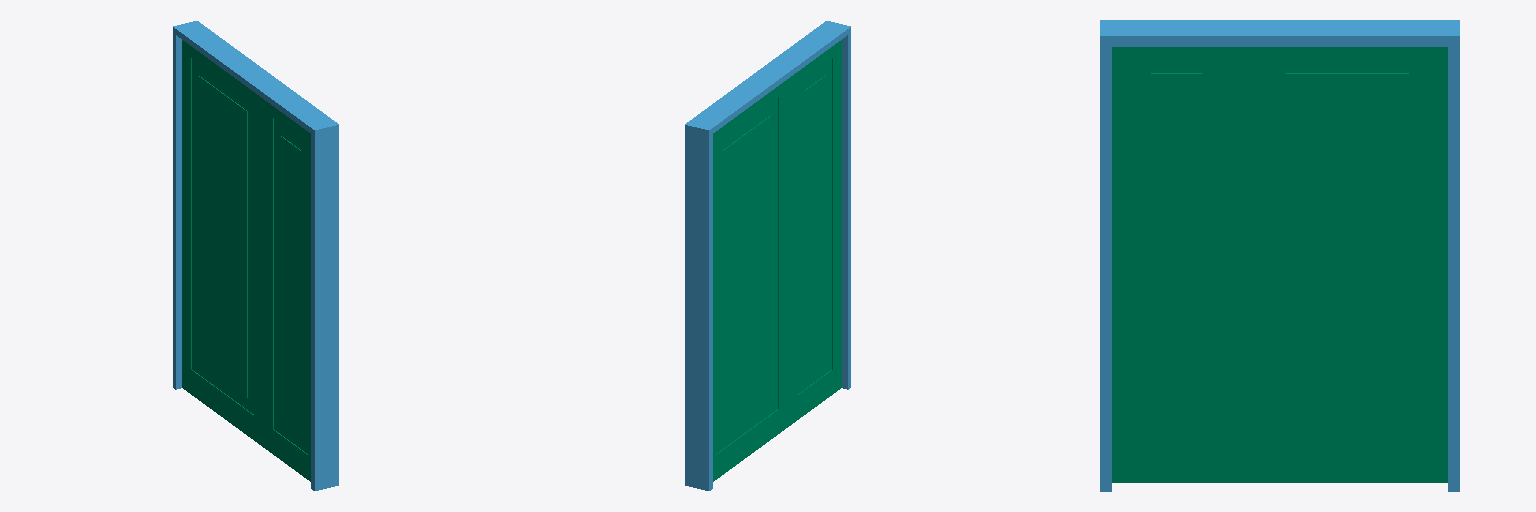
robot.urdf — partnet_eac2956bca47ec9b77c151b0c12c2fc8:
<?xml version="1.0" ?>
<robot name="partnet_eac2956bca47ec9b77c151b0c12c2fc8">
	<link name="base"/>
	<link name="link_0">
		<visual name="outside_frame-1">
			<origin xyz="0 0 0"/>
			<geometry>
				<mesh filename="textured_objs/original-1.obj"/>
			</geometry>
		</visual>
		<collision>
			<origin xyz="0 0 0"/>
			<geometry>
				<mesh filename="textured_objs/original-1.obj"/>
			</geometry>
		</collision>
	</link>
	<joint name="joint_0" type="fixed">
		<origin rpy="1.570796326794897 0 -1.570796326794897" xyz="0 0 0"/>
		<child link="link_0"/>
		<parent link="base"/>
	</joint>
	<link name="link_1">
		<visual name="surface_board-4">
			<origin xyz="-0.5564889460804314 -0.7923770000000006 0.005400404543963733"/>
			<geometry>
				<mesh filename="textured_objs/original-2.obj"/>
			</geometry>
		</visual>
		<collision>
			<origin xyz="-0.5564889460804314 -0.7923770000000006 0.005400404543963733"/>
			<geometry>
				<mesh filename="textured_objs/original-2.obj"/>
			</geometry>
		</collision>
	</link>
	<joint name="joint_1" type="revolute">
		<origin xyz="0.5564889460804314 0.7923770000000006 -0.005400404543963733"/>
		<axis xyz="0 -1 0"/>
		<child link="link_1"/>
		<parent link="link_0"/>
		<limit lower="0.0" upper="1.5707963267948966"/>
	</joint>
</robot>

--- Render facts (derived) ---
3 views of the same robot in one strip: view 1: azimuth 30°, elevation 25°; view 2: azimuth 150°, elevation 25°; view 3: azimuth 270°, elevation 25° (orthographic).
Robot: partnet_eac2956bca47ec9b77c151b0c12c2fc8 — 3 links, 2 joints (1 revolute, 1 fixed); root link base; default pose: every joint at zero.
Visible links, largest first — view 1: link_1, link_0; view 2: link_1, link_0; view 3: link_1, link_0.
Link boxes in pixels (bbox=[...]): link_1: bbox=[182, 40, 310, 481]; link_0: bbox=[173, 21, 338, 490]; link_1: bbox=[713, 40, 841, 481]; link_0: bbox=[685, 21, 850, 490]; link_1: bbox=[1112, 47, 1447, 482]; link_0: bbox=[1100, 20, 1459, 491].
Bounding box of the posed robot: 0.1169 × 1.17 × 1.64 m (x, y, z).
Meshes: 2 distinct files referenced, 2 mesh visuals loaded (2 OBJ).
